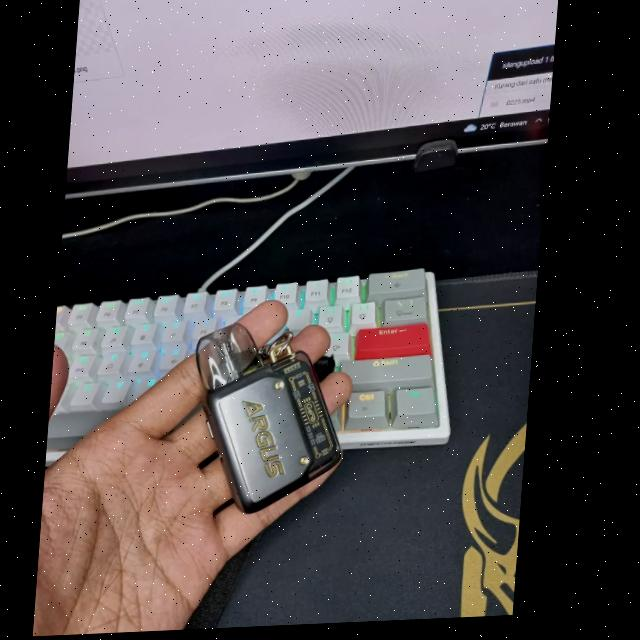vape: (190, 323, 361, 516)
